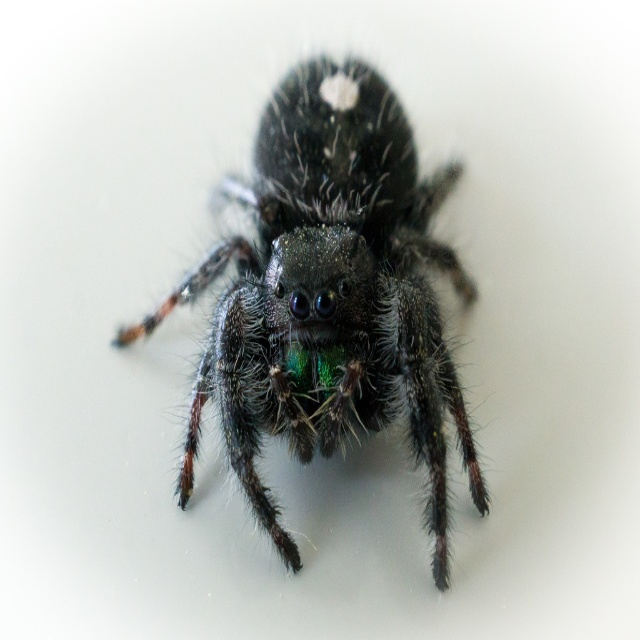Spider: (109, 42, 502, 594)
